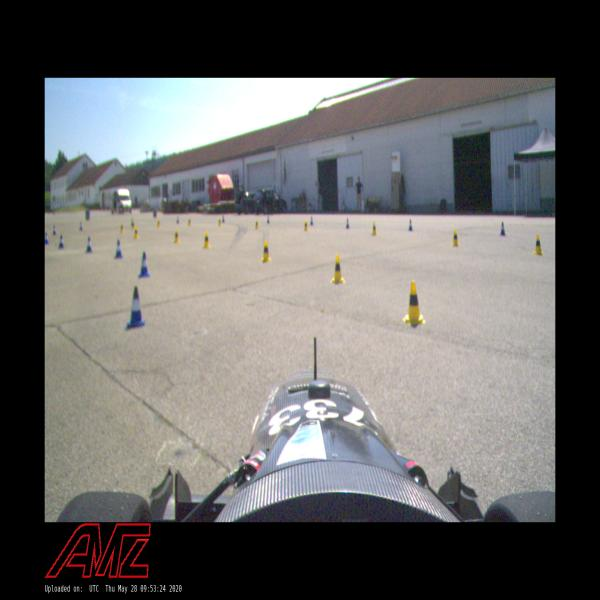blue_cone: (126, 286, 144, 325), (138, 251, 150, 278), (114, 238, 123, 258), (85, 234, 93, 252), (408, 218, 414, 231), (59, 234, 64, 249), (44, 230, 48, 245), (346, 215, 350, 229), (78, 221, 83, 231), (310, 216, 314, 226), (266, 215, 270, 224), (53, 224, 56, 235)
yellow_cone: (403, 282, 425, 328), (331, 252, 345, 285), (260, 238, 272, 263), (532, 234, 544, 255), (452, 230, 460, 246), (499, 220, 507, 236), (203, 231, 210, 249), (172, 229, 180, 244), (371, 220, 378, 235), (133, 226, 139, 240), (303, 218, 308, 230), (254, 219, 259, 230), (187, 216, 192, 226), (120, 222, 124, 233), (218, 216, 222, 226), (156, 219, 160, 228)
